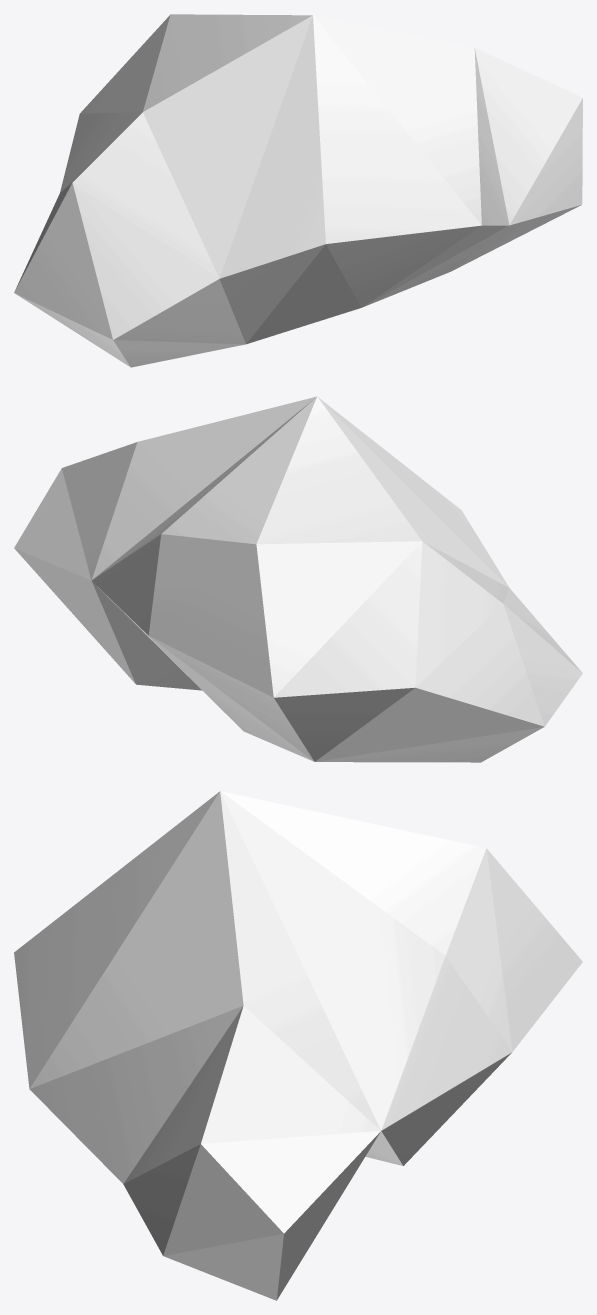
Rendered from GL-Cloud-03-LOD3.fbx.
3 views of the same model, one above another, from view 1: azimuth 30°, elevation 25°; view 2: azimuth 150°, elevation 25°; view 3: azimuth 270°, elevation 25° (orthographic). The views are drawn at different scales.
Parts seen in each view (by area): view 1: GL_Cloud_03; view 2: GL_Cloud_03; view 3: GL_Cloud_03.
Part boxes in pixels (bbox=[...]): GL_Cloud_03: bbox=[14, 14, 582, 367]; GL_Cloud_03: bbox=[14, 396, 582, 762]; GL_Cloud_03: bbox=[14, 791, 582, 1300].
Size of the model in its own units: 2.38 by 1.33 by 1.65.
